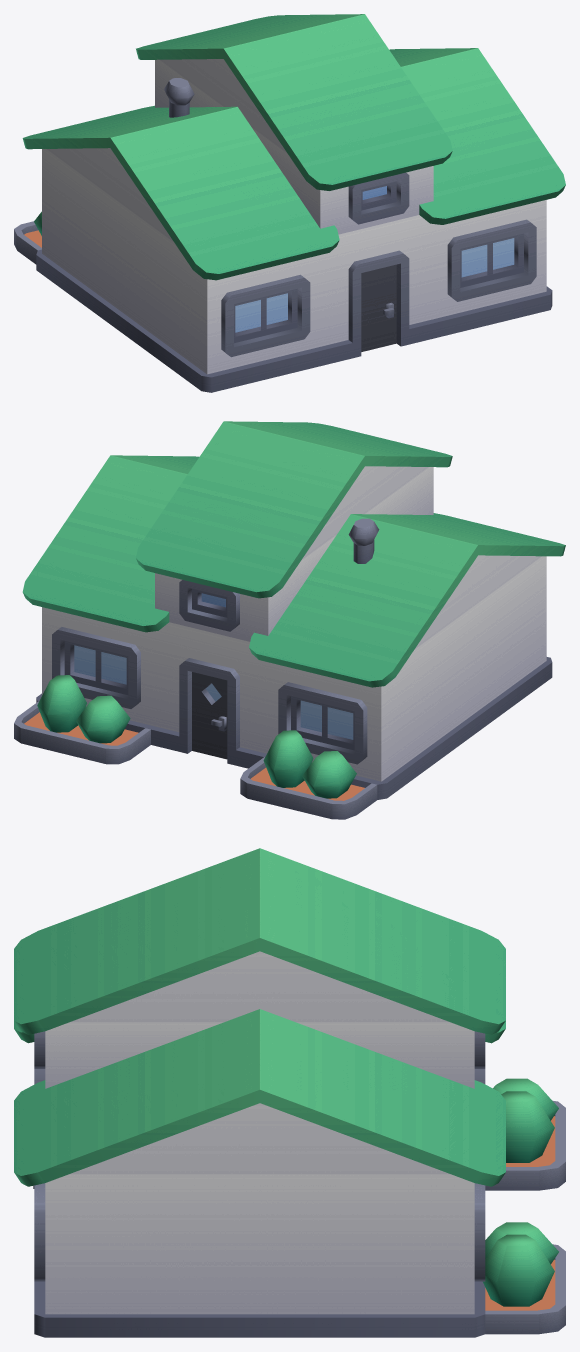
File: house_a.glb
3 views of the same model, one above another, from view 1: azimuth 30°, elevation 25°; view 2: azimuth 150°, elevation 25°; view 3: azimuth 270°, elevation 25° (orthographic). The views are drawn at different scales.
Parts seen in each view (by area): view 1: building-type-a; view 2: building-type-a; view 3: building-type-a.
Part boxes in pixels (<box>): building-type-a: <box>14,14,565,392</box>; building-type-a: <box>14,421,565,819</box>; building-type-a: <box>14,848,565,1337</box>.
Size of the model in its own units: 15 by 10 by 15.
1 material, 1 textured.
